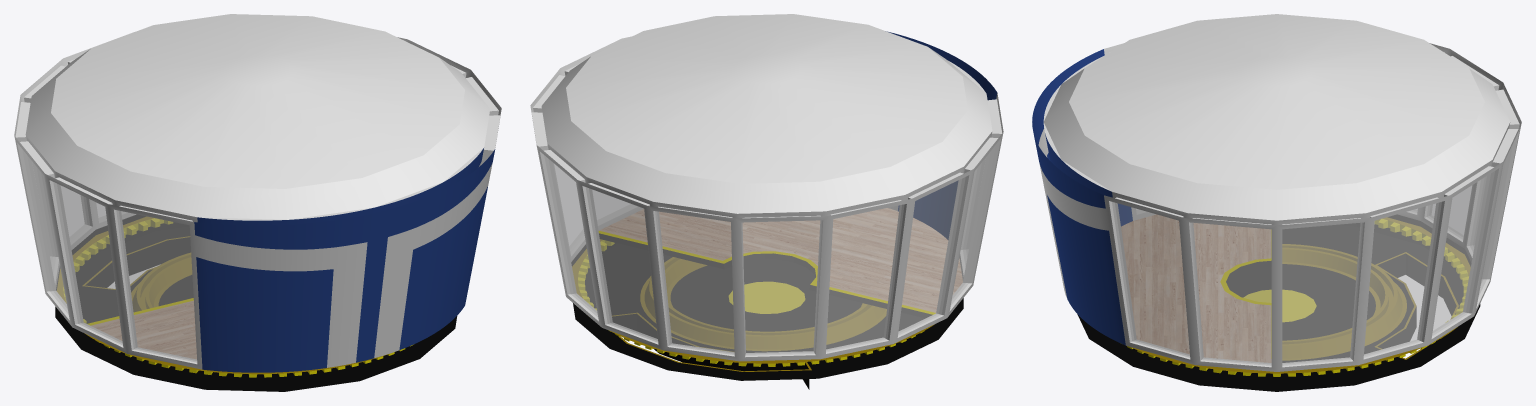
File: mdl_zesty_room_static.gltf
3 views of the same model, side by side, from view 1: azimuth 30°, elevation 25°; view 2: azimuth 150°, elevation 25°; view 3: azimuth 270°, elevation 25° (orthographic). The views are drawn at different scales.
Parts seen in each view (by area): view 1: mdl_zesty_room_static; view 2: mdl_zesty_room_static; view 3: mdl_zesty_room_static.
Part boxes in pixels (box(x1,y1,x2,y2)): mdl_zesty_room_static: box(14, 14, 501, 391); mdl_zesty_room_static: box(530, 14, 1003, 389); mdl_zesty_room_static: box(1032, 14, 1521, 391).
Bounding box in the file's own units: 9.03 × 5.2 × 9.03.
9 materials, 1 textured.
